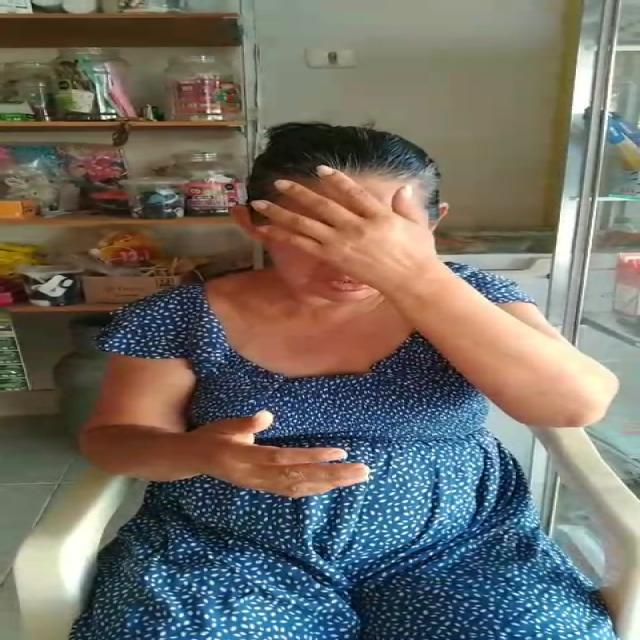7_mano_rostro: (253, 153, 438, 320)
